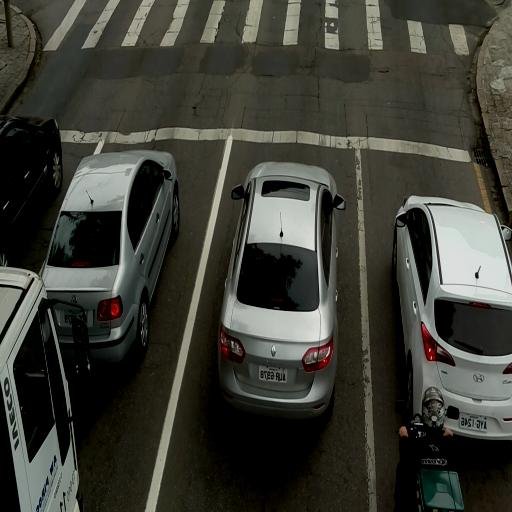car: (221, 163, 345, 421), (44, 150, 179, 366), (392, 197, 512, 439), (0, 115, 63, 266)
motorcycle: (392, 385, 469, 508)
others: (0, 268, 88, 510)
